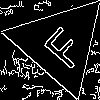F: (34, 18, 90, 72)
